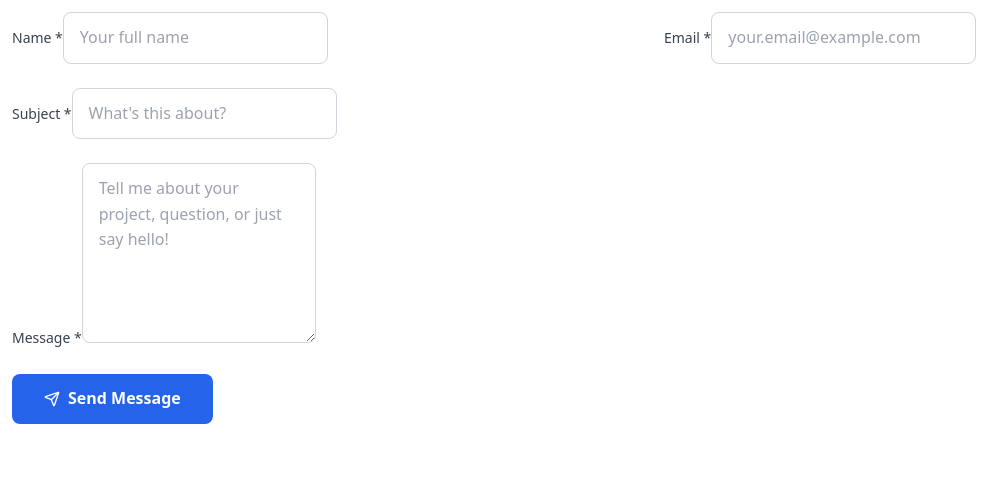
Scenario: ContactForm › shows validation errors for empty required fields
Click the button "Send Message". click: (112, 399)
box: [12, 374, 213, 424]
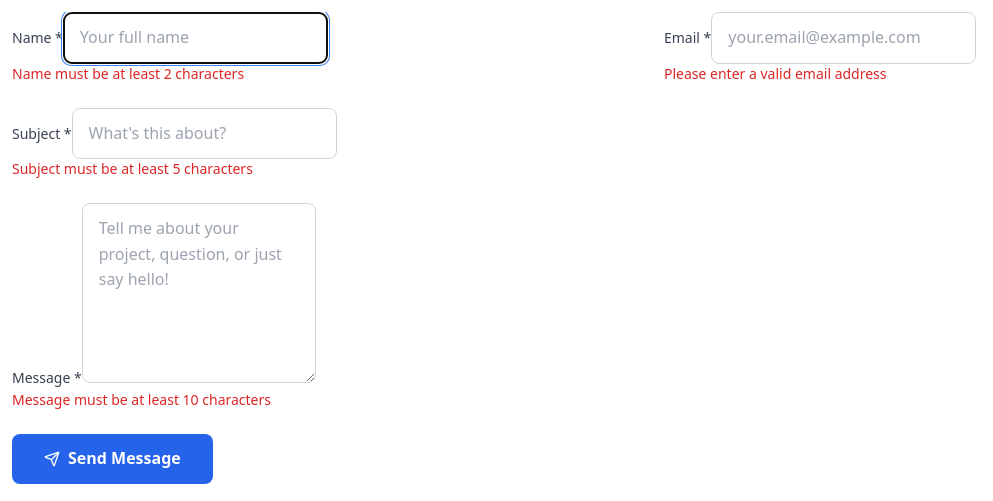
Now the text "Name must be at least 2 characters" is shown, box [12, 64, 244, 83]
Now the text "Please enter a valid email address" is shown, box [664, 64, 886, 83]
Now the text "Subject must be at least 5 characters" is shown, box [12, 159, 253, 178]
